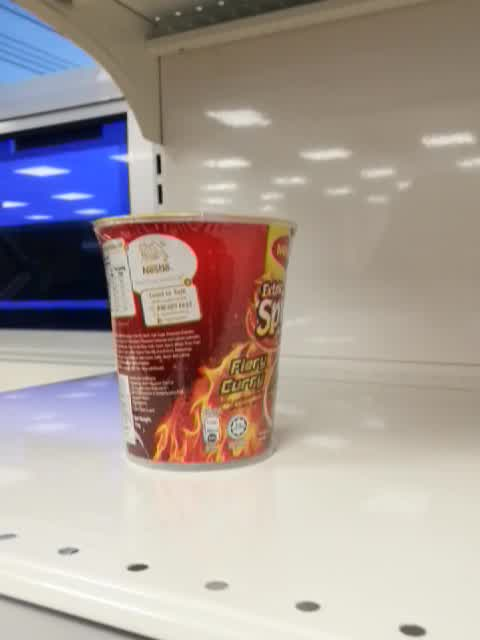maggi: (91, 211, 302, 473)
